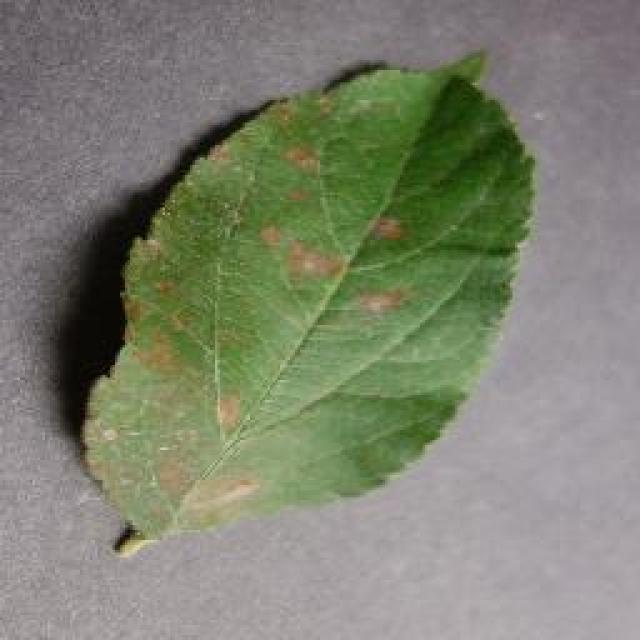apple healthy: (75, 47, 537, 555)
